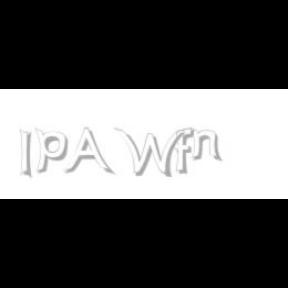A: (64, 128, 112, 176)
W: (114, 128, 186, 178)
f: (174, 128, 198, 174)
l: (20, 128, 36, 180)
n: (189, 128, 223, 162)
p: (35, 128, 72, 174)
